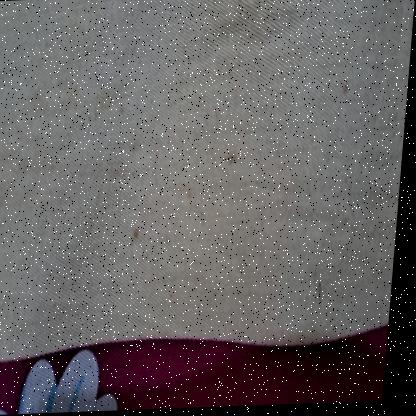spot: (311, 255, 331, 311), (225, 141, 243, 167), (146, 90, 165, 112), (114, 103, 132, 124), (337, 74, 353, 97), (133, 217, 145, 244)
